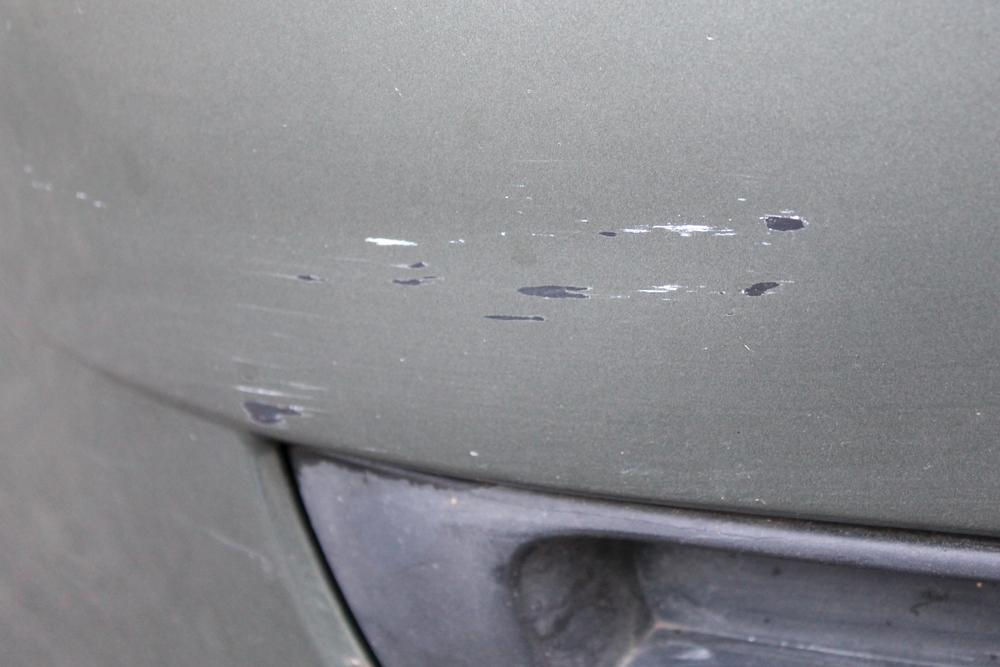scratch: (232, 203, 818, 437)
